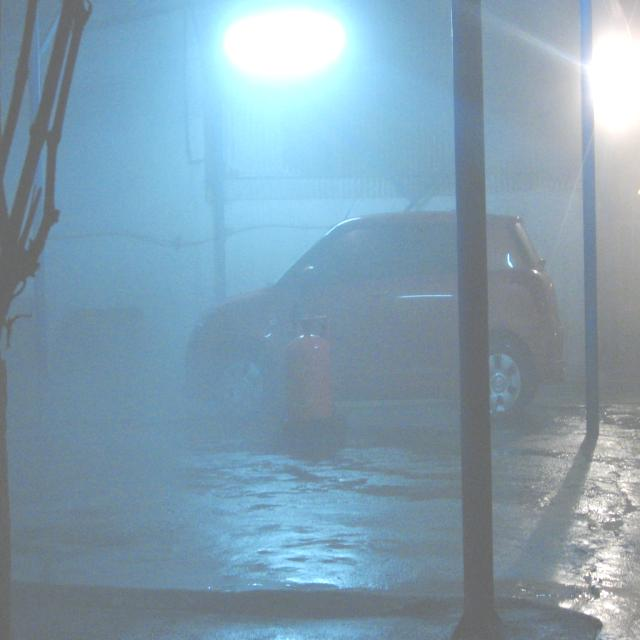Car: (189, 215, 566, 434)
